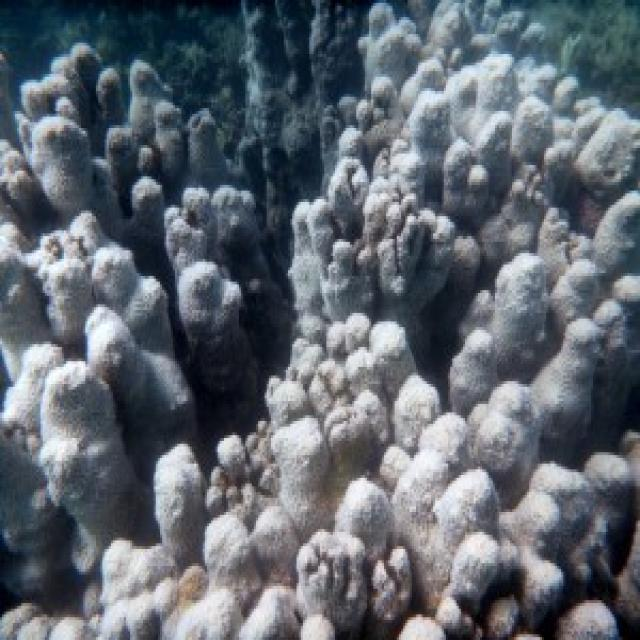Bleached: (1, 314, 639, 638), (293, 1, 639, 379), (1, 44, 253, 547)
